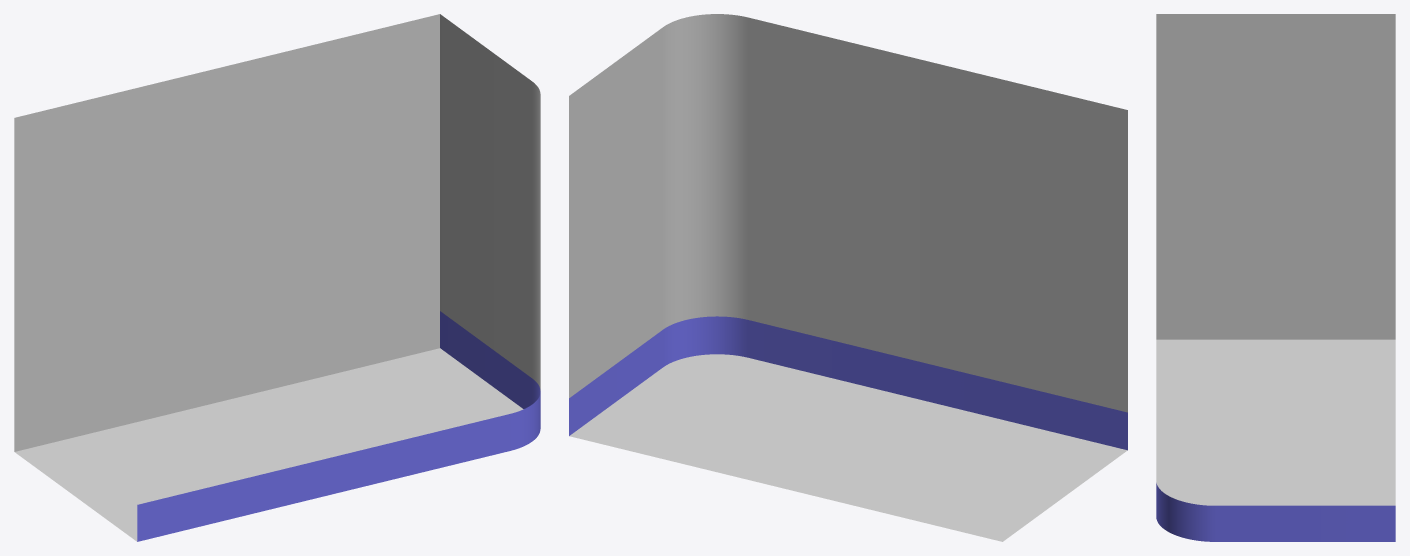
File: counter-set-02-04.glb
3 renders of one model, left to right at view 1: azimuth 30°, elevation 25°; view 2: azimuth 150°, elevation 25°; view 3: azimuth 270°, elevation 25°, orthographic. The views are drawn at different scales.
Parts seen in each view (by area): view 1: 3DGeom-7, 3DGeom-6; view 2: 3DGeom-7, 3DGeom-6; view 3: 3DGeom-7, 3DGeom-6.
Part boxes in pixels (left/top/right/bottom): 3DGeom-7: left=14, top=14, right=540, bottom=541; 3DGeom-6: left=137, top=311, right=540, bottom=541; 3DGeom-7: left=569, top=14, right=1127, bottom=541; 3DGeom-6: left=569, top=316, right=1127, bottom=450; 3DGeom-7: left=1156, top=14, right=1395, bottom=505; 3DGeom-6: left=1156, top=483, right=1395, bottom=541.
Size of the model in its own units: 1.2 by 0.9 by 0.6.
